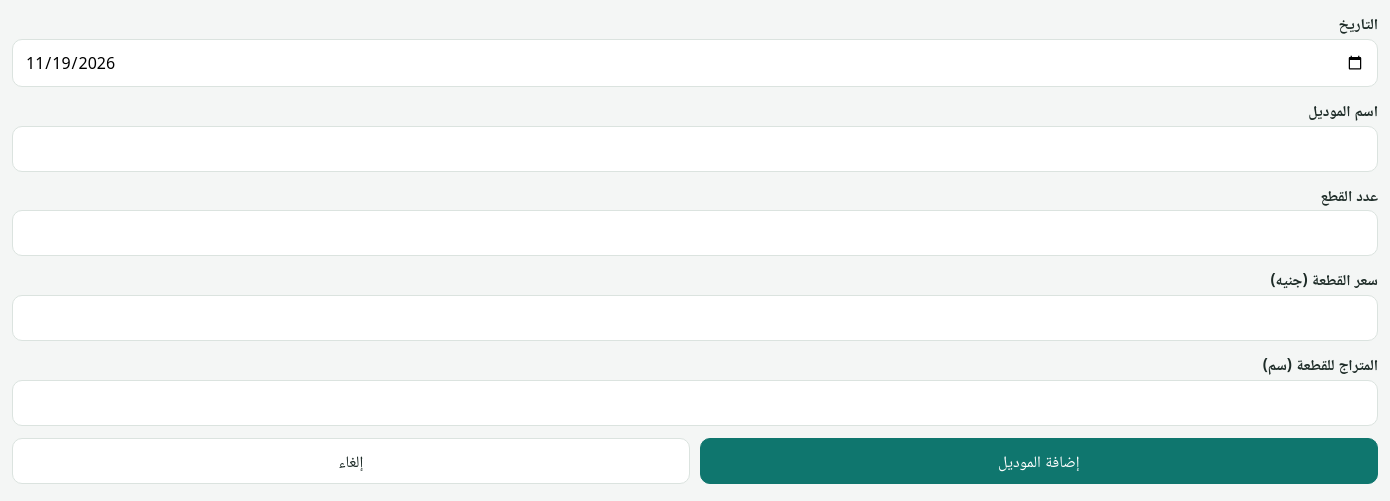
Test: ModelForm › disables the buttons while saving
The image size is (1390, 501).
Type "2026-10-01" into the date field labelled "التاريخ".
click(695, 63); type("2026-10-01")  # box x1=12 y1=39 x2=1378 y2=87
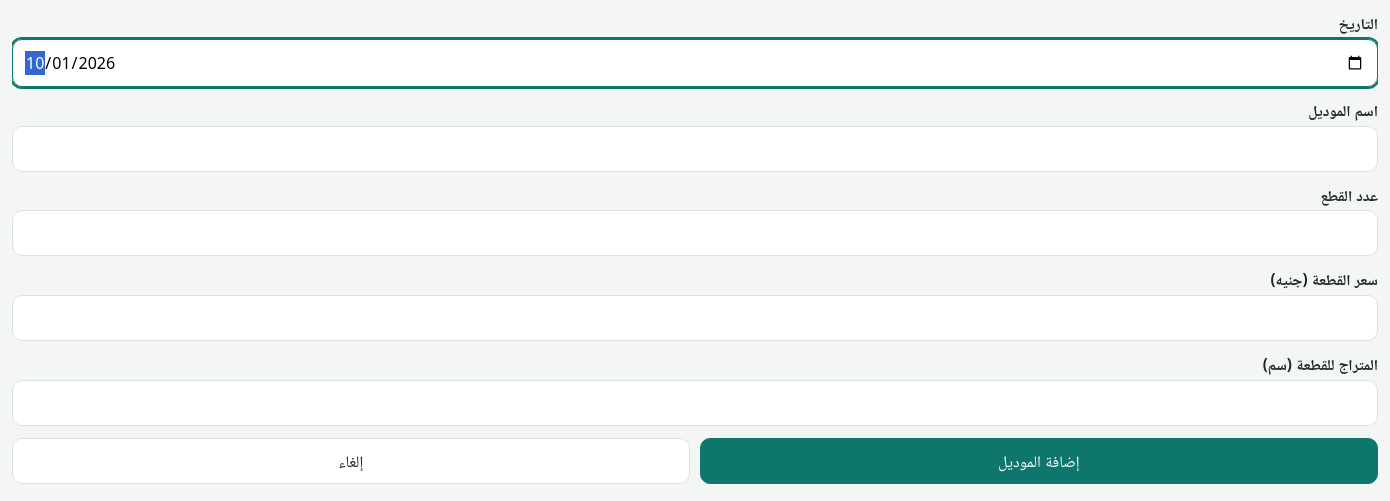
Type "بنطلون" into the field labelled "اسم الموديل".
click(695, 149); type("بنطلون")  # box x1=12 y1=126 x2=1378 y2=172
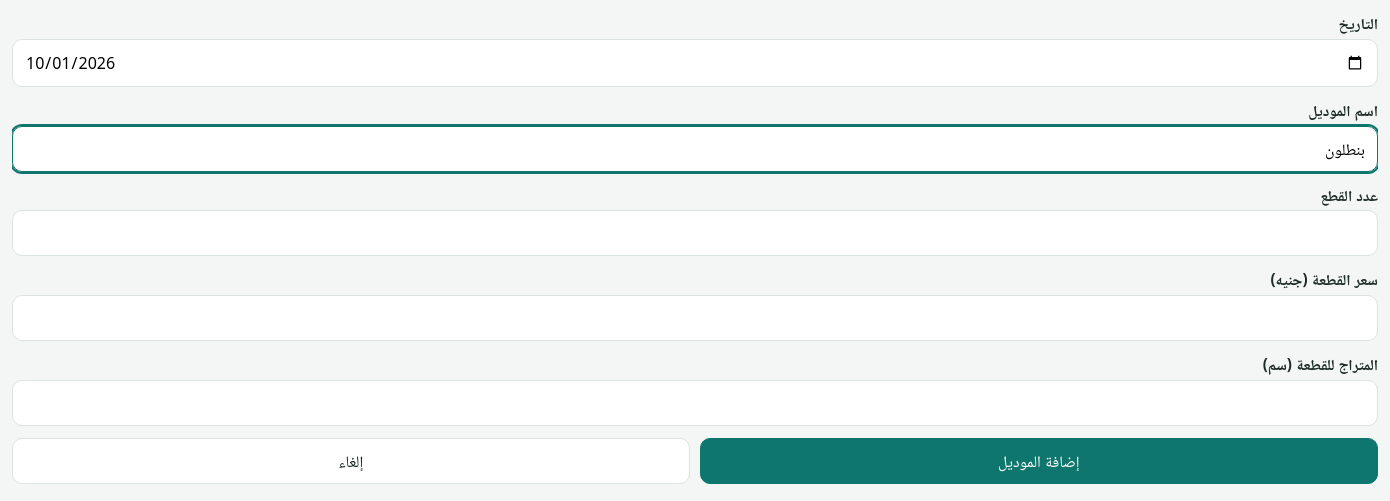
Type "10" into the number field labelled "عدد القطع".
click(695, 233); type("10")  # box x1=12 y1=210 x2=1378 y2=256
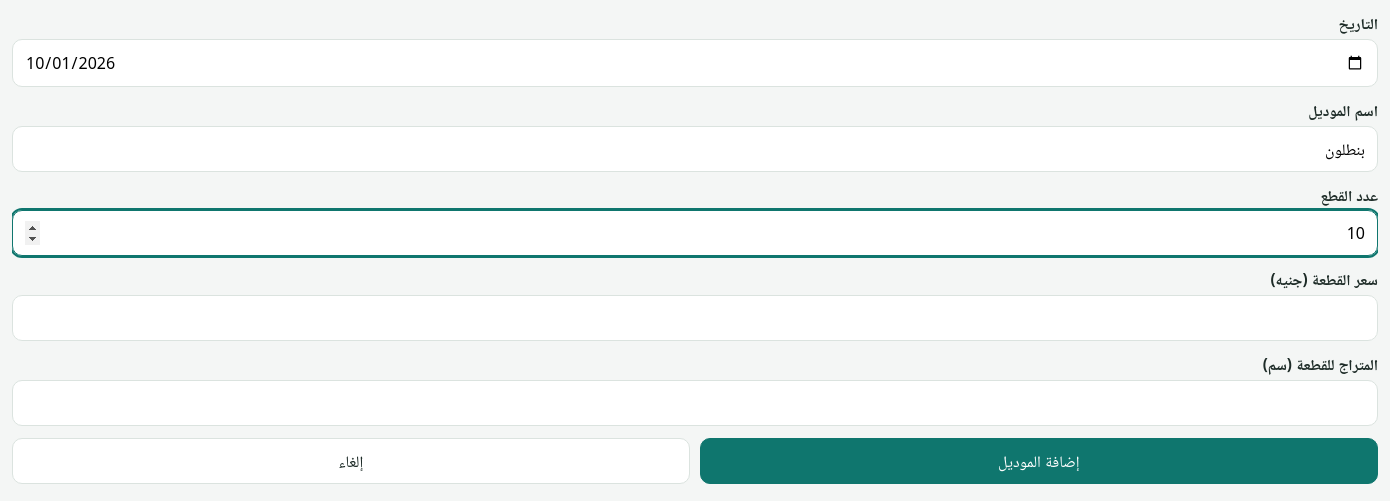
Type "50" into the number field labelled "سعر القطعة (جنيه)".
click(695, 318); type("50")  # box x1=12 y1=295 x2=1378 y2=341
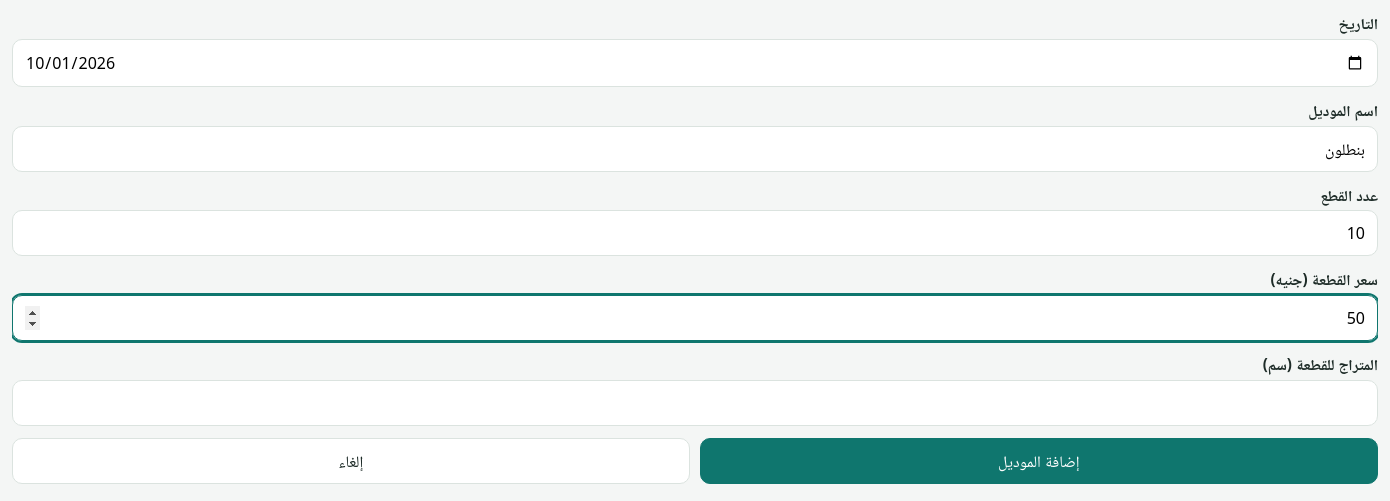
Type "100" into the number field labelled "المتراج للقطعة (سم)".
click(695, 403); type("100")  # box x1=12 y1=380 x2=1378 y2=426
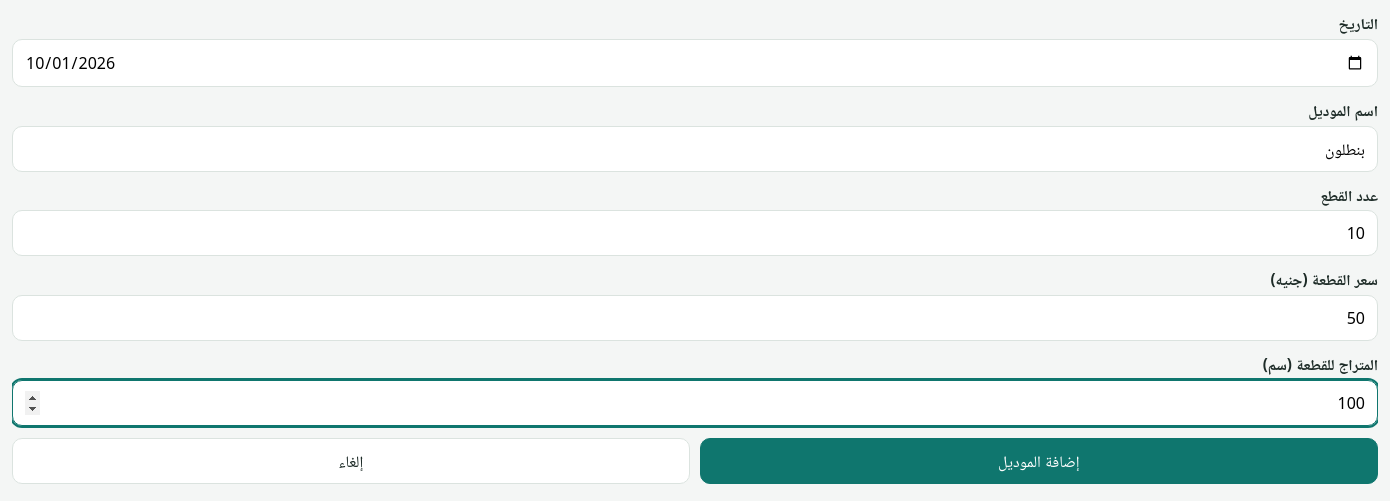
Click the button "إضافة الموديل".
click(1039, 461)  # box x1=700 y1=438 x2=1378 y2=484
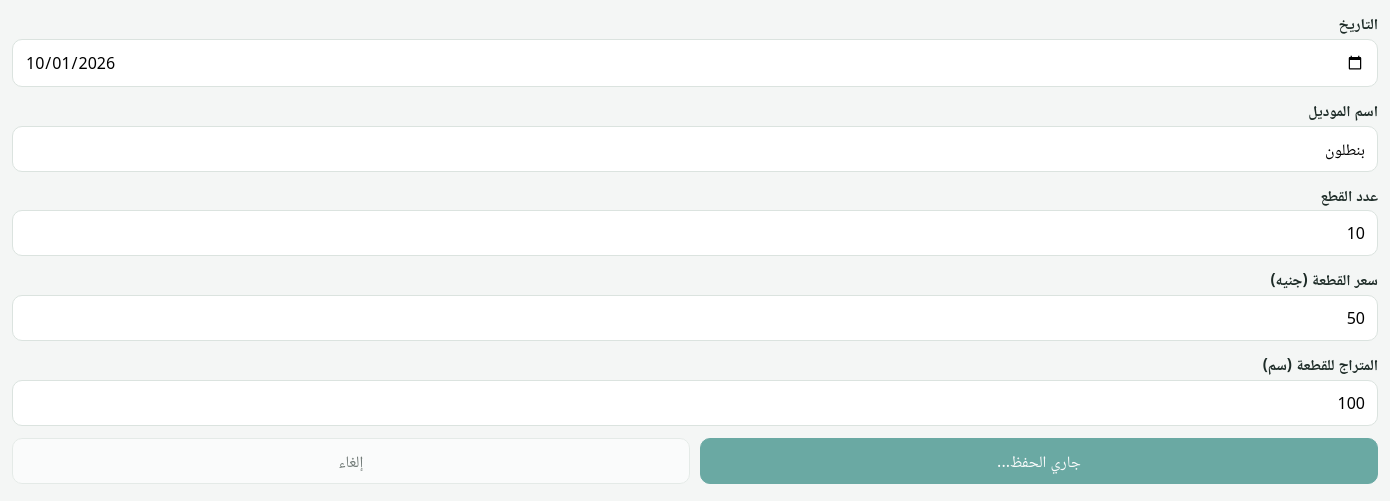
Expected: the button "جاري الحفظ..." is disabled, x1=700 y1=438 x2=1378 y2=484
Expected: the button "إلغاء" is disabled, x1=12 y1=438 x2=690 y2=484
